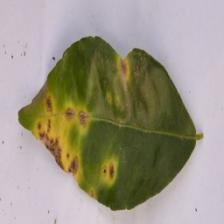canker: (17, 82, 105, 185)
